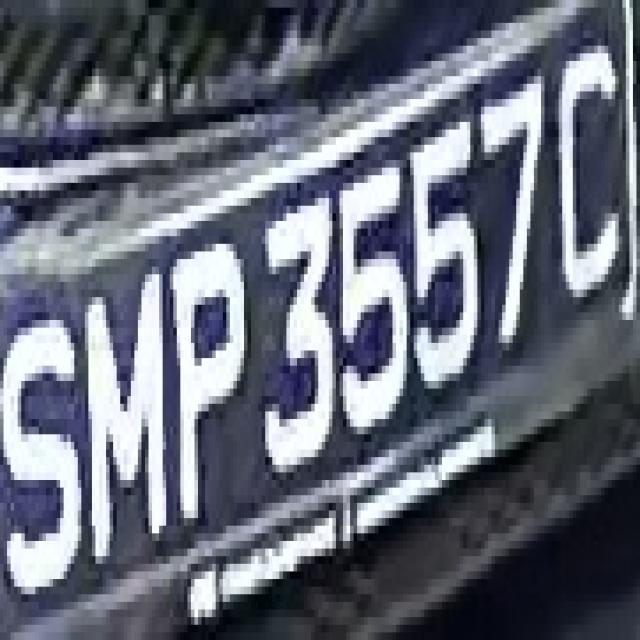3: (258, 206, 350, 480)
5: (407, 114, 481, 434), (332, 160, 410, 442)
7: (474, 68, 548, 350)
C: (548, 31, 622, 290)
M: (81, 282, 163, 571)
P: (170, 259, 251, 549)
S: (14, 320, 85, 587)
